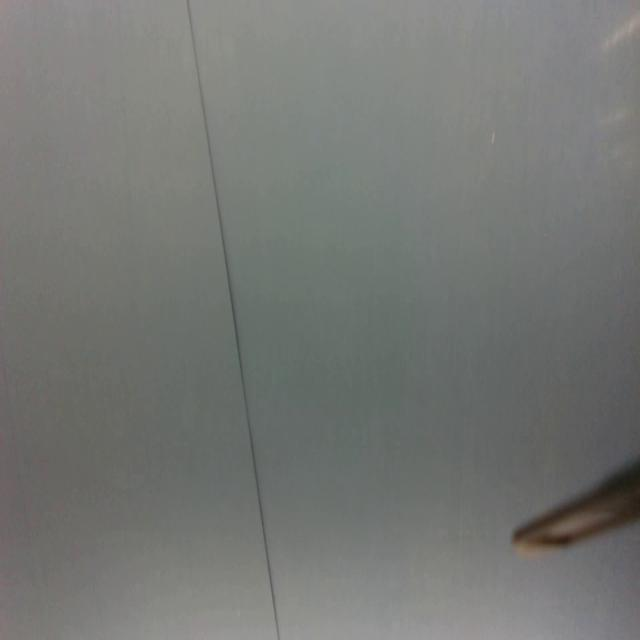hole: (489, 128, 499, 146)
